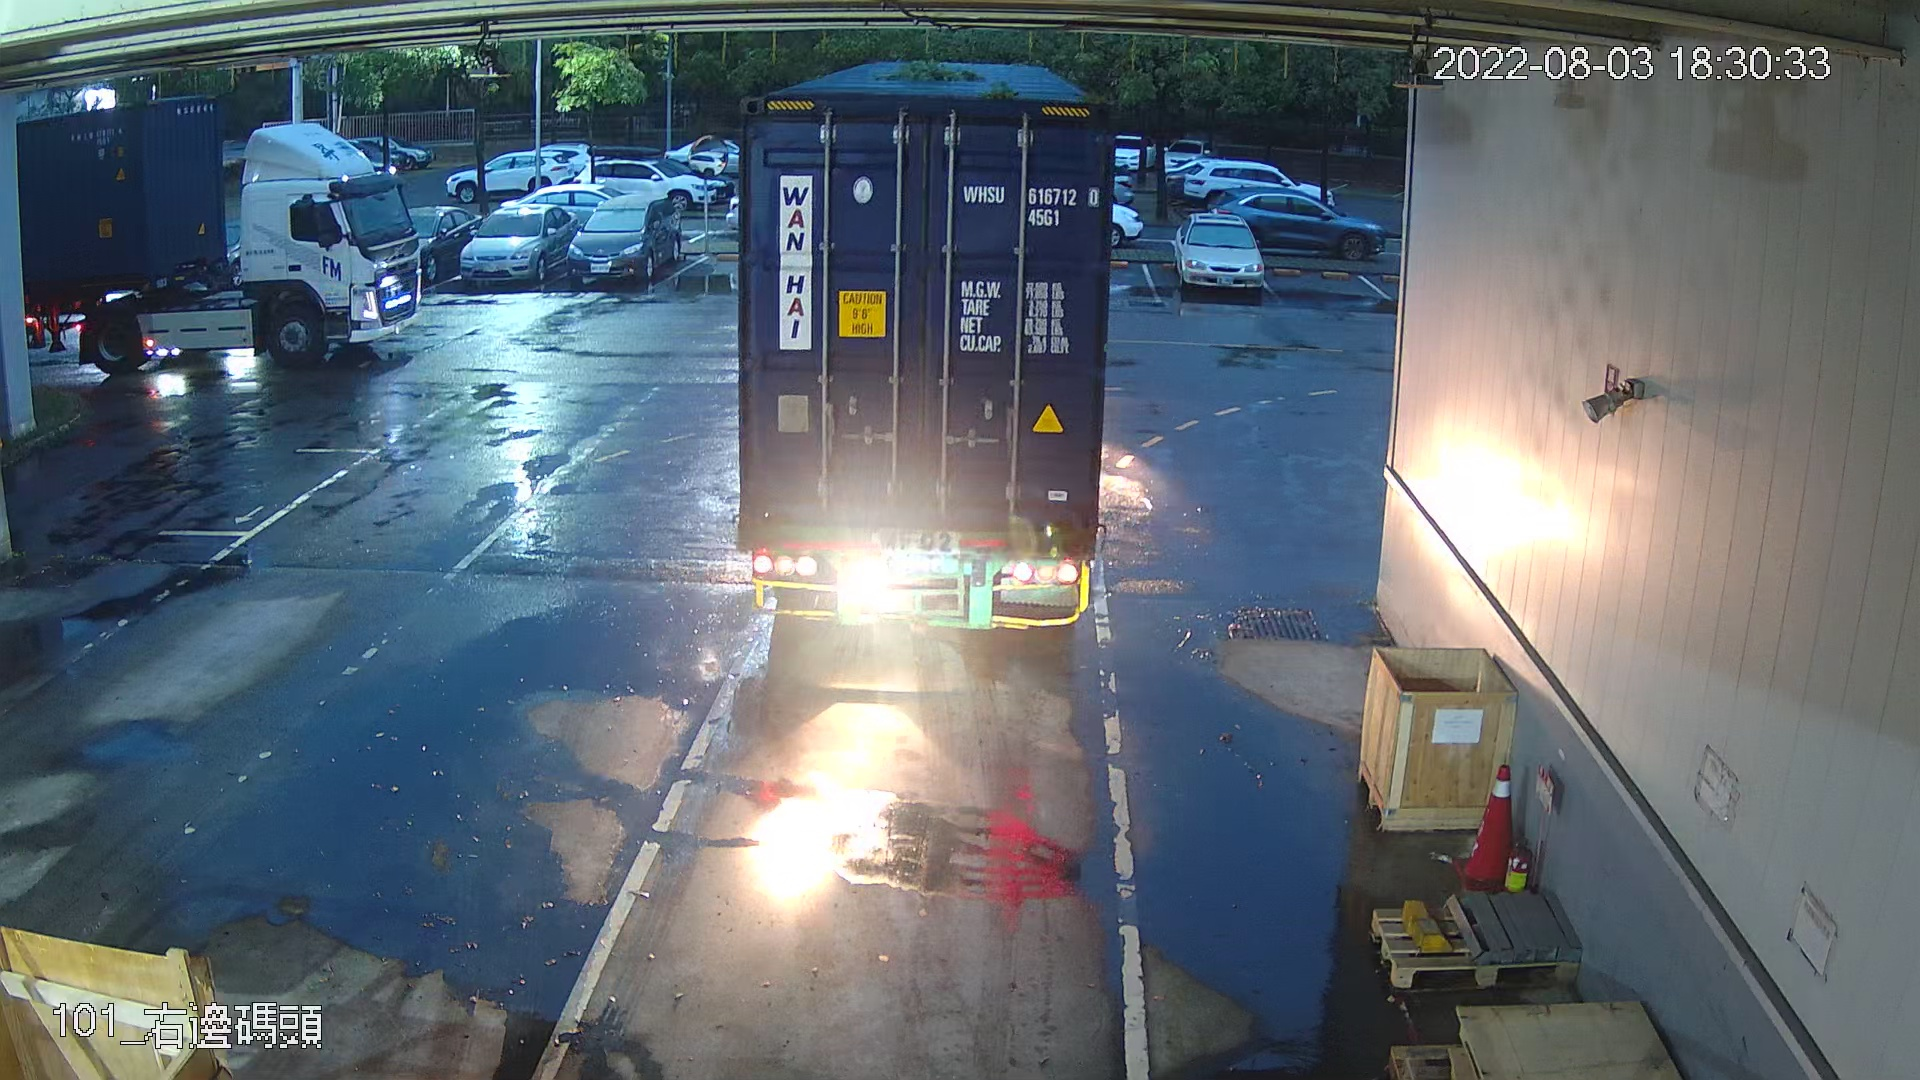container: (959, 175, 1102, 233)
